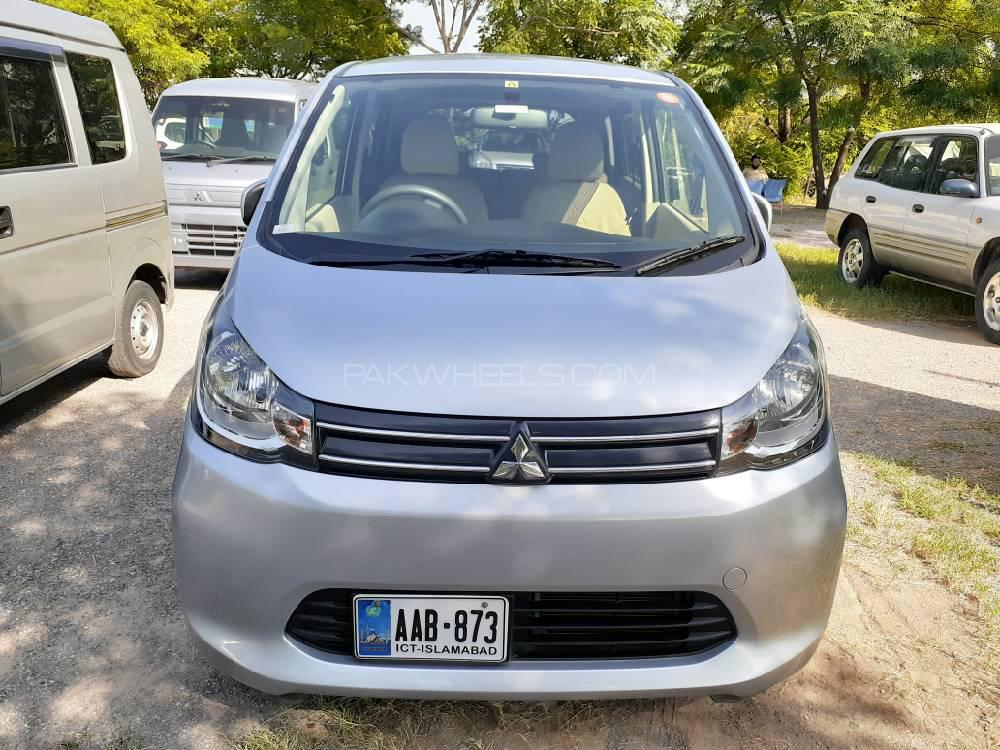license plate: (354, 598, 503, 659)
